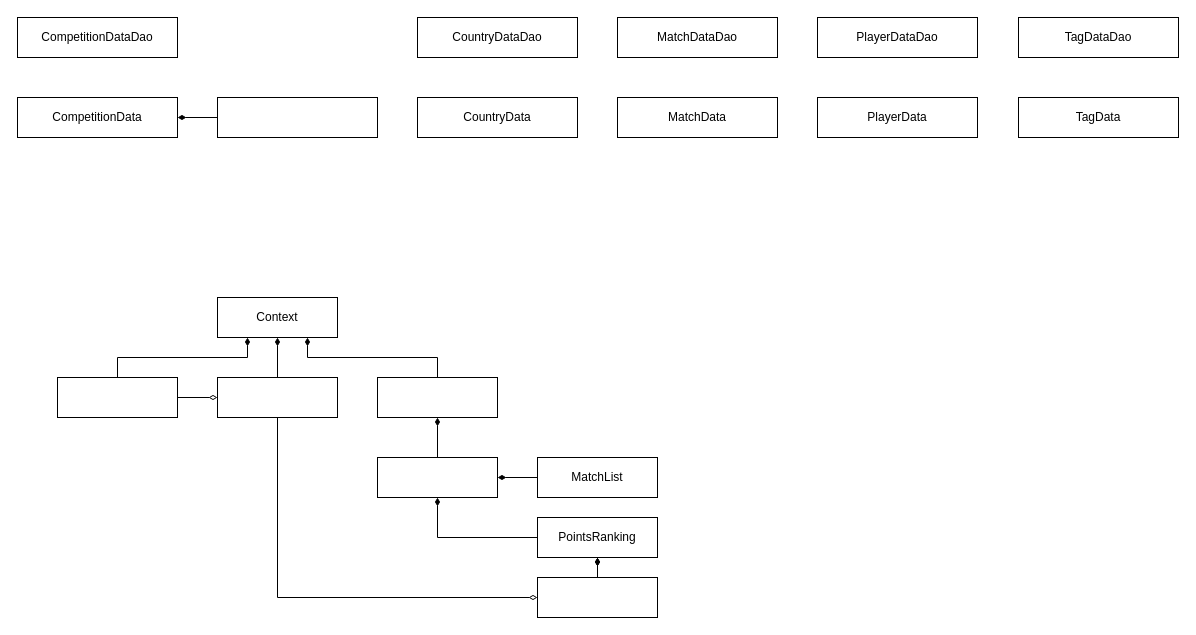
Image size: 1196x635. Some labels were removed from this diagram. The box of each missing label's shape, as (x1, y1, x2, y2) in pixels:
Competition: (376, 376, 498, 418)
Country: (56, 376, 178, 418)
League: (376, 456, 498, 498)
LeagueData: (216, 96, 378, 138)
Player: (216, 376, 338, 418)
PlayerScores: (536, 576, 658, 618)
